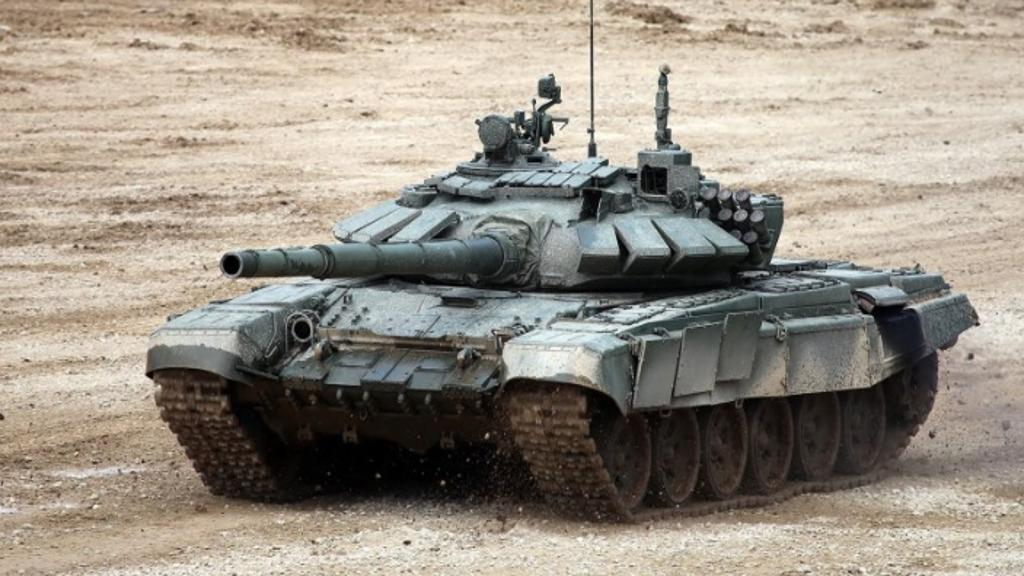TANK: (142, 86, 977, 523)
